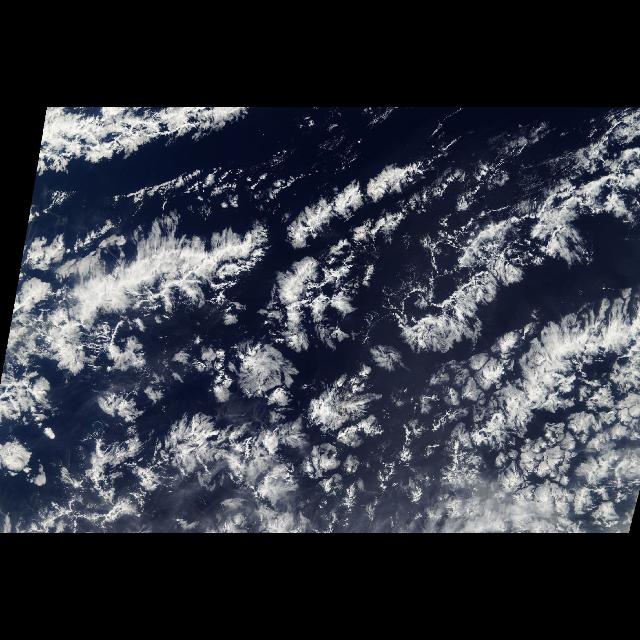Fish: (460, 291, 632, 455), (72, 238, 250, 318), (300, 156, 422, 242)
Flower: (135, 322, 639, 534)
